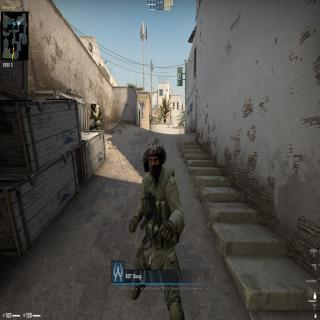CT-Head: (144, 140, 167, 180), (90, 100, 96, 111)
